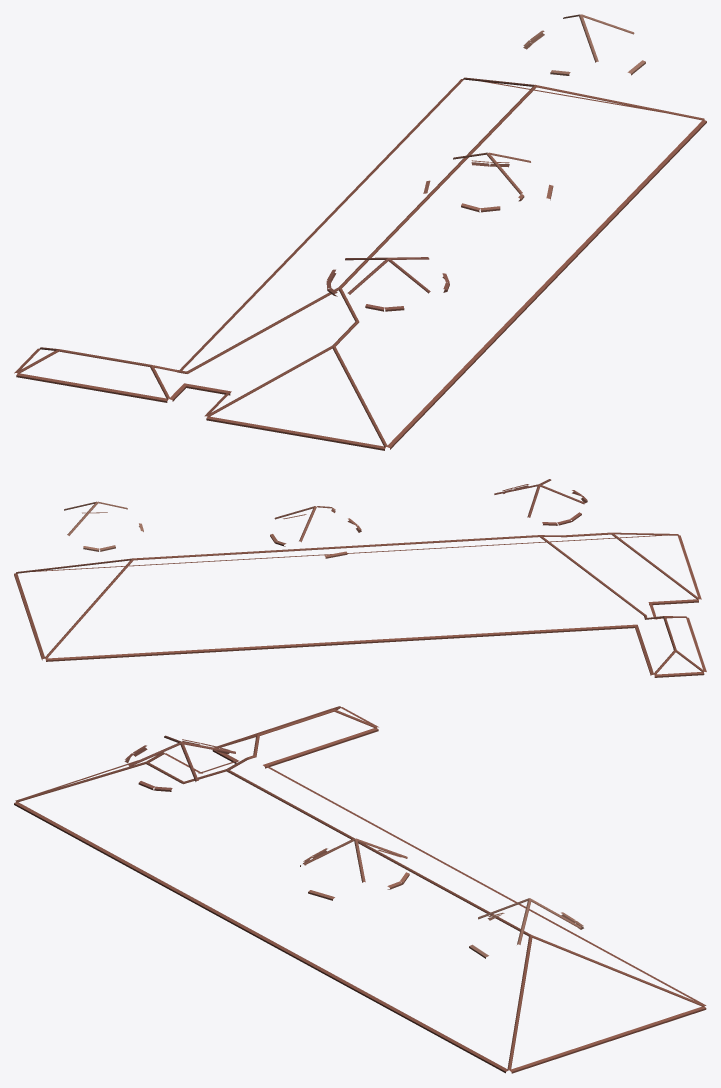
The picture shows the model from 3 angles, top to bottom: view 1: azimuth 30°, elevation 25°; view 2: azimuth 150°, elevation 25°; view 3: azimuth 270°, elevation 25°; orthographic projection. The views are drawn at different scales.
Visible parts, largest first — view 1: detail; view 2: detail; view 3: detail.
Boxes of the visible parts, x1=… form: detail: x1=14, y1=14, x2=706, y2=450; detail: x1=14, y1=479, x2=706, y2=677; detail: x1=14, y1=706, x2=706, y2=1073.
Bounding box in the file's own units: 70.87 × 11.16 × 56.8.
